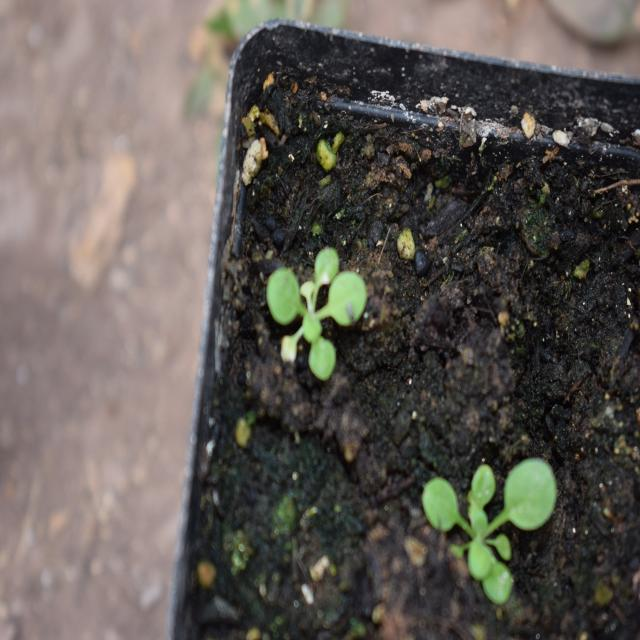Shepherd_Purse: (416, 428, 578, 596)
